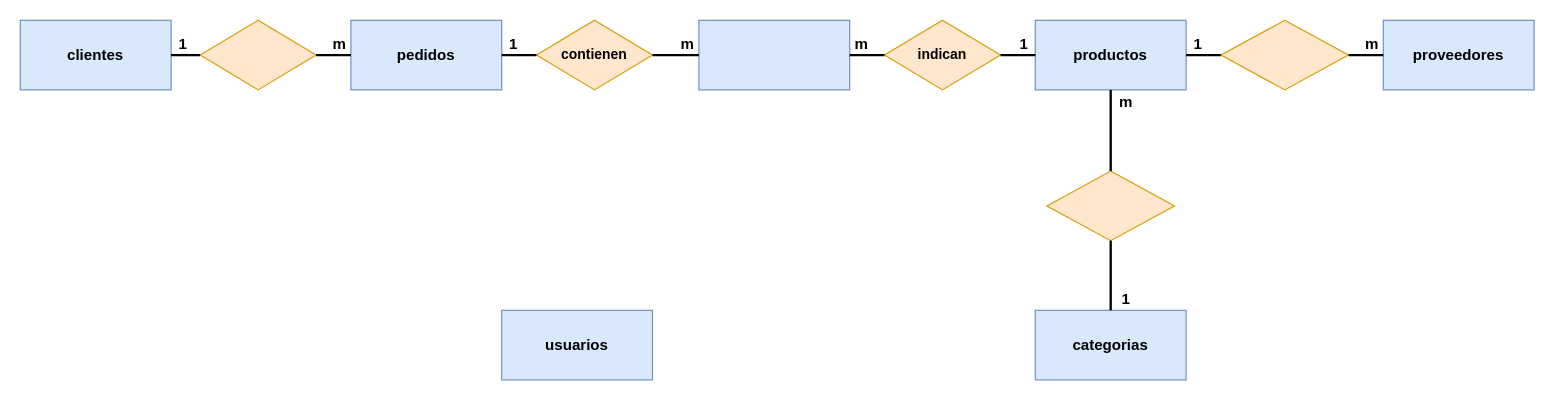
Image size: 1554x400. Some labels were removed from this diagram. Here are the shapes that lost their labels. From the top down, the box of each, then its label:
(199, 19, 316, 90): hacen
(698, 19, 850, 90): linea_pedido
(1220, 19, 1348, 90): suministran
(1046, 170, 1174, 241): pertenecen
